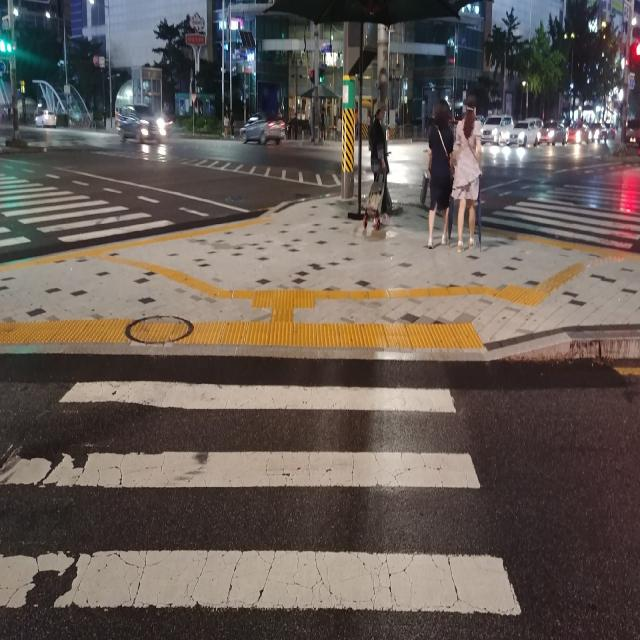횡단보도: (0, 380, 523, 620), (0, 163, 169, 259)
